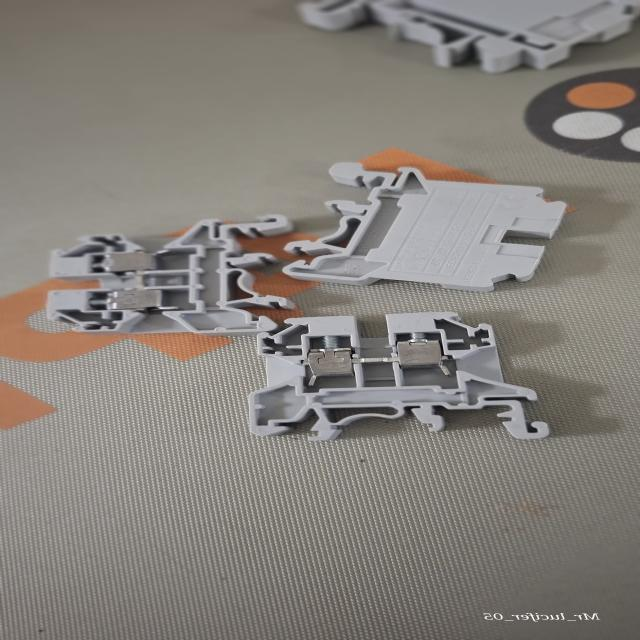Inverted: (288, 160, 570, 290)
Pass: (241, 310, 551, 438), (43, 212, 290, 336)
